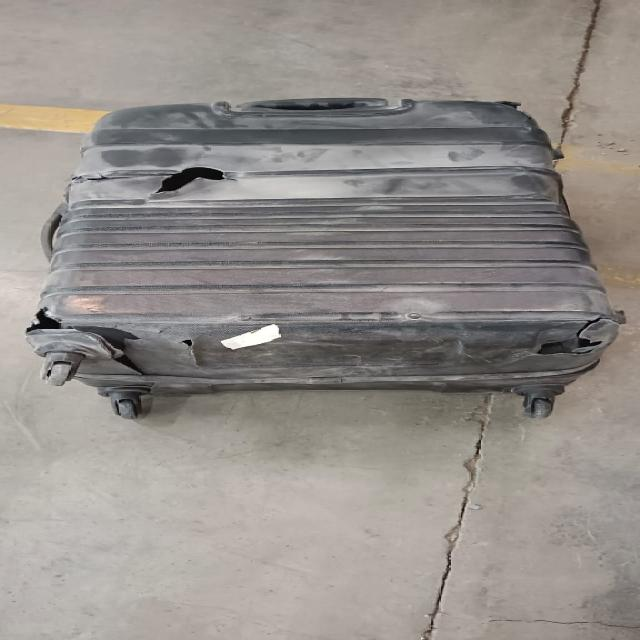Damage-bag: (536, 311, 625, 361), (71, 326, 139, 371), (158, 168, 225, 191), (72, 170, 178, 184), (42, 204, 67, 258), (28, 309, 61, 331), (67, 185, 86, 204), (181, 338, 194, 351), (192, 355, 197, 364)
